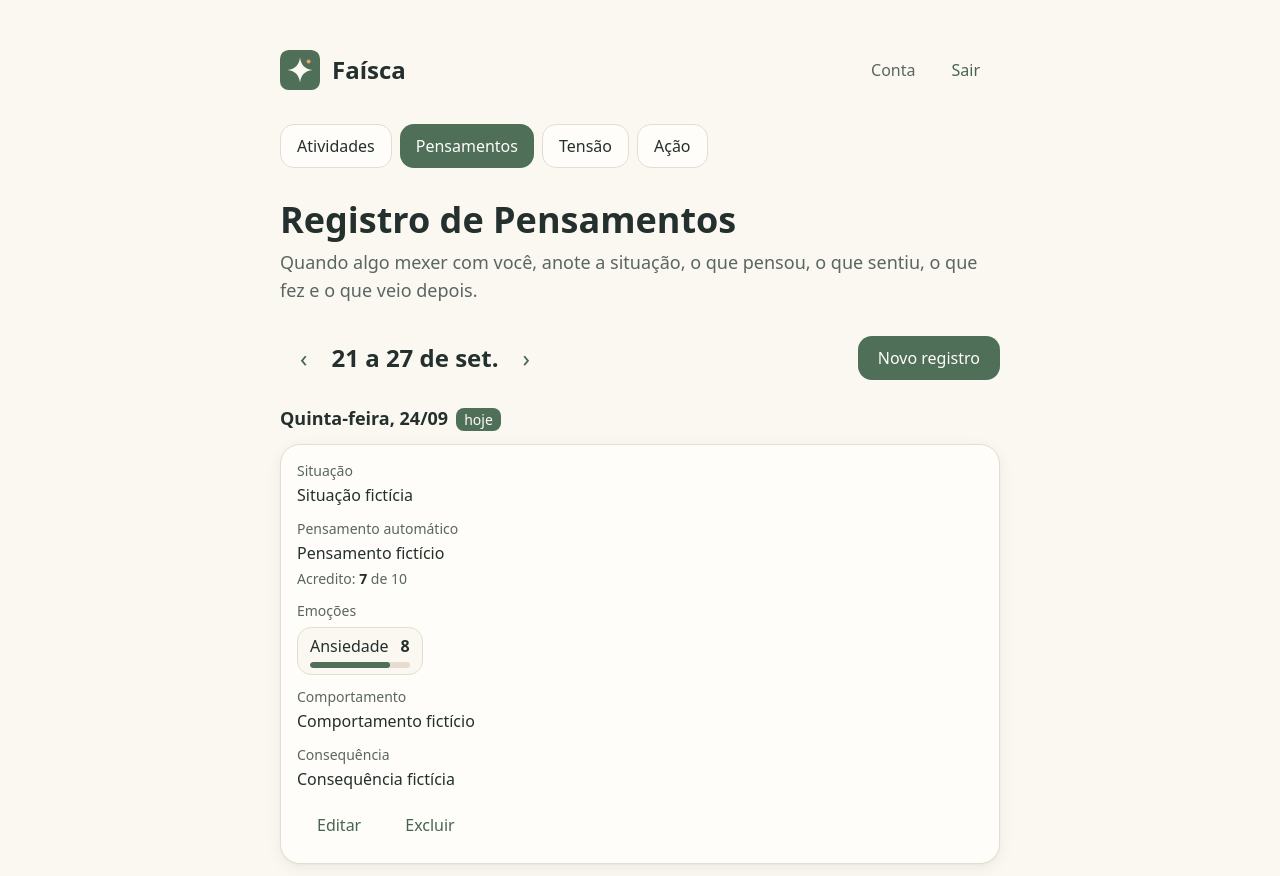
Test: /pensamentos › excluir depois do prazo (409): avisa e não insiste
Click the button "Excluir".
click(430, 825)  # box [385,803,475,847]
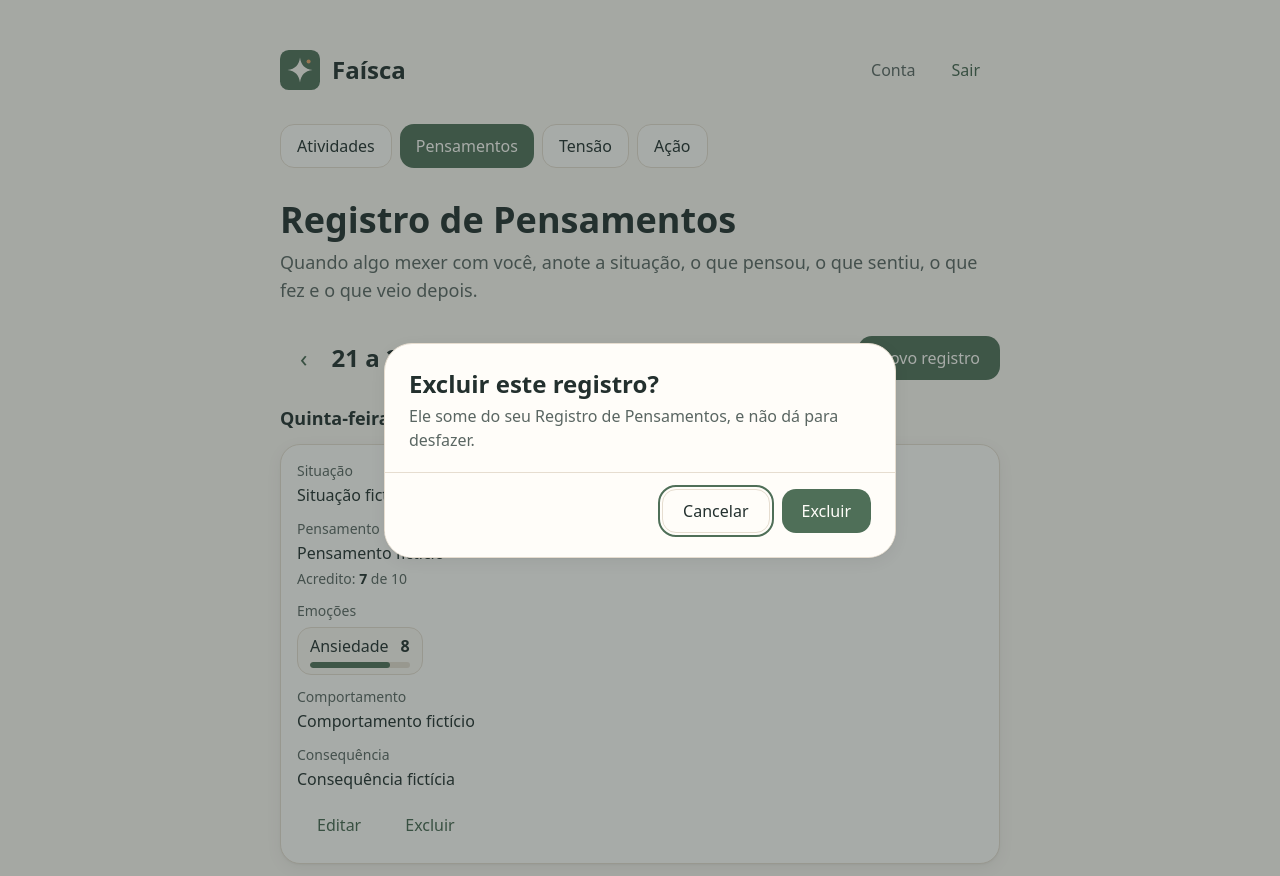
Click the button "Excluir".
click(826, 510)  # box [782,488,871,532]
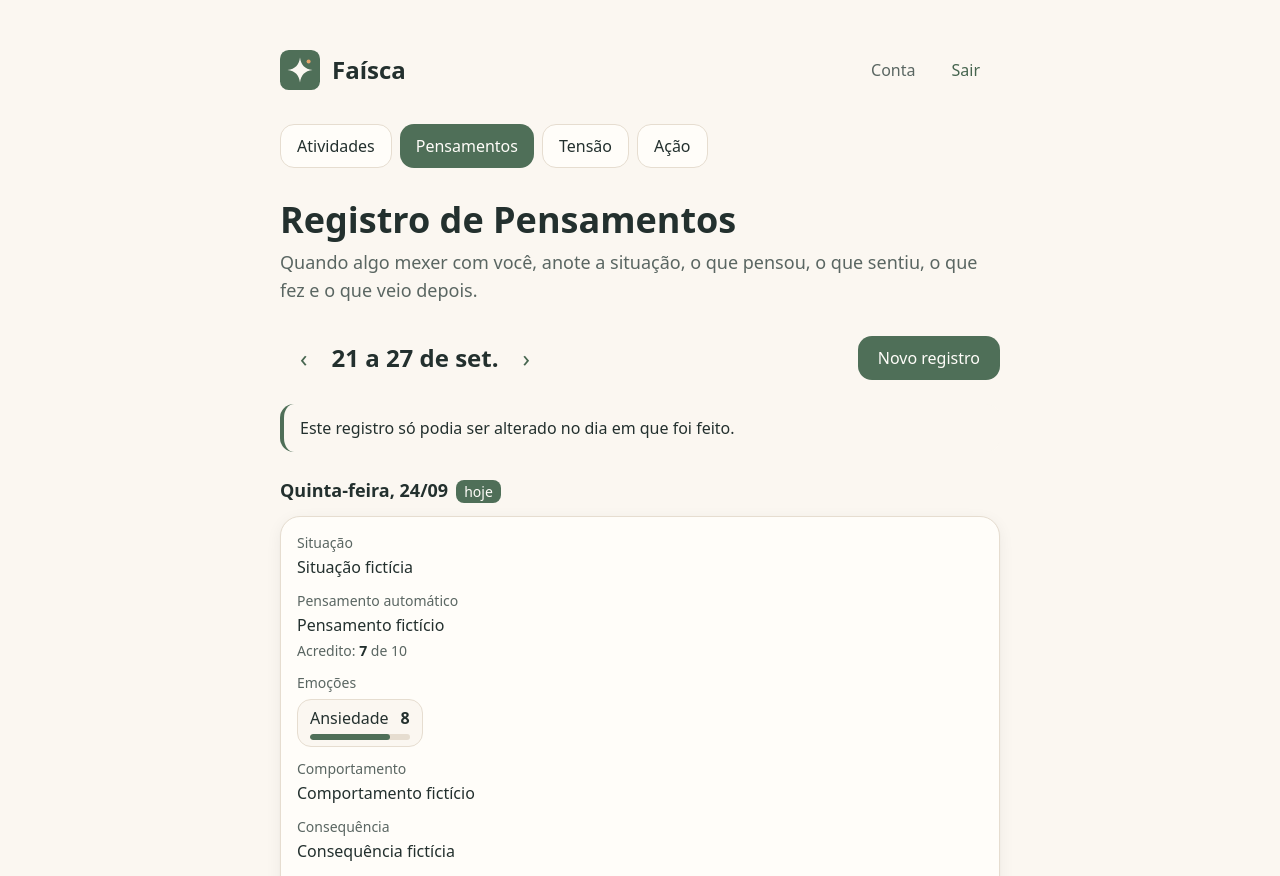
expect the text "Este registro só podia ser alterado no dia em que foi feito." is shown: met, box [280,404,1000,452]
expect the dialog is gone: met
